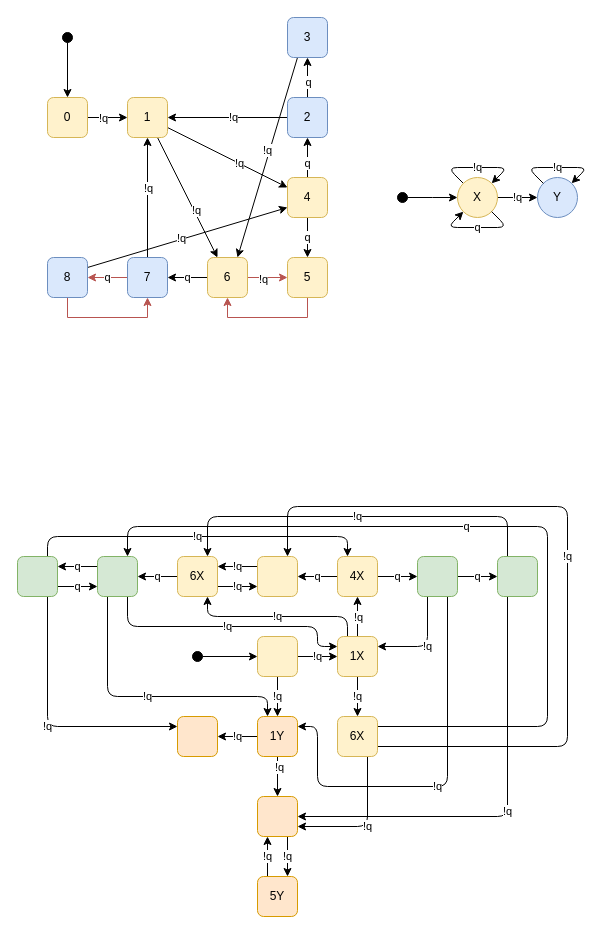
Image size: 613x934. Some labels were removed from this diagram. The shapes that lost their labels are listed below. From the top down, each one's centre as x and y in pixels, then its label:
the point at 37,576: 8X
the point at 117,576: 7X
the point at 277,576: 5X
the point at 437,576: 2X
the point at 517,576: 3X
the point at 277,656: 0X
the point at 197,736: 4Y
the point at 277,816: 6Y
